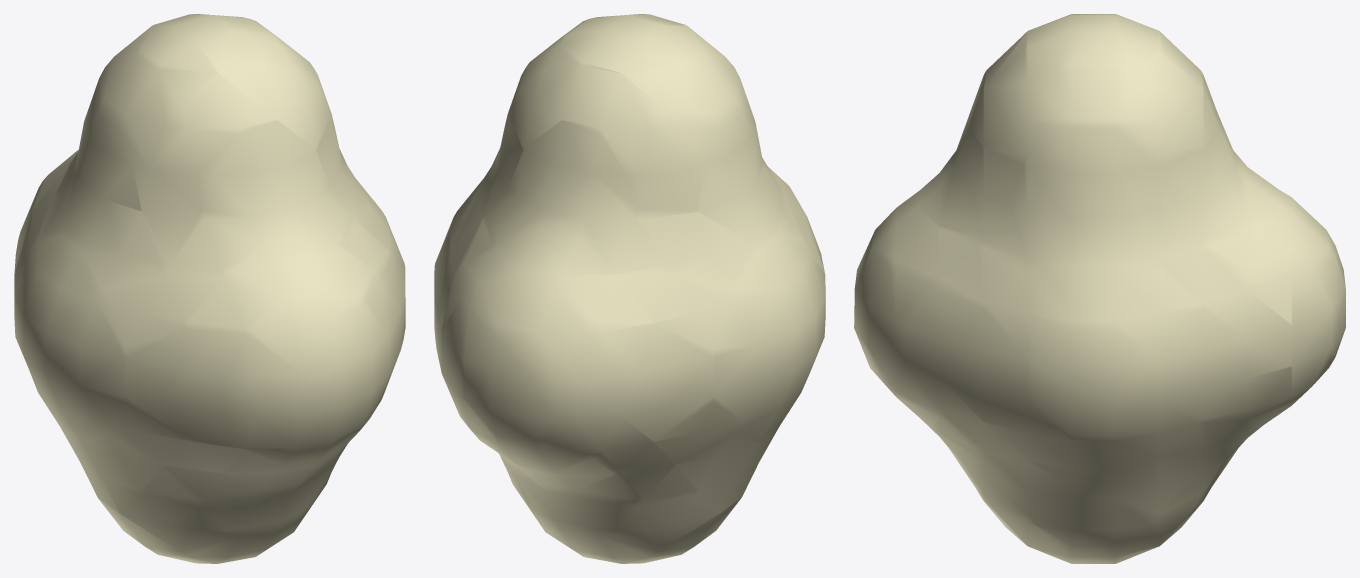
The model's file is Poussierefbx.fbx.
3 views of the same model, side by side, from view 1: azimuth 30°, elevation 25°; view 2: azimuth 150°, elevation 25°; view 3: azimuth 270°, elevation 25° (orthographic).
Visible parts, largest first — view 1: Mball.006; view 2: Mball.006; view 3: Mball.006.
Part boxes in pixels (x1,y1,x2,y2): Mball.006: (14,14,405,563); Mball.006: (434,14,825,563); Mball.006: (854,14,1345,563).
Size of the model in its own units: 370 by 528 by 447.
